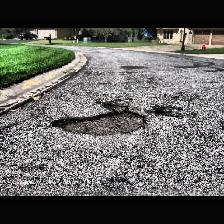pothole: (52, 110, 146, 136), (99, 101, 127, 111), (151, 109, 163, 115)
